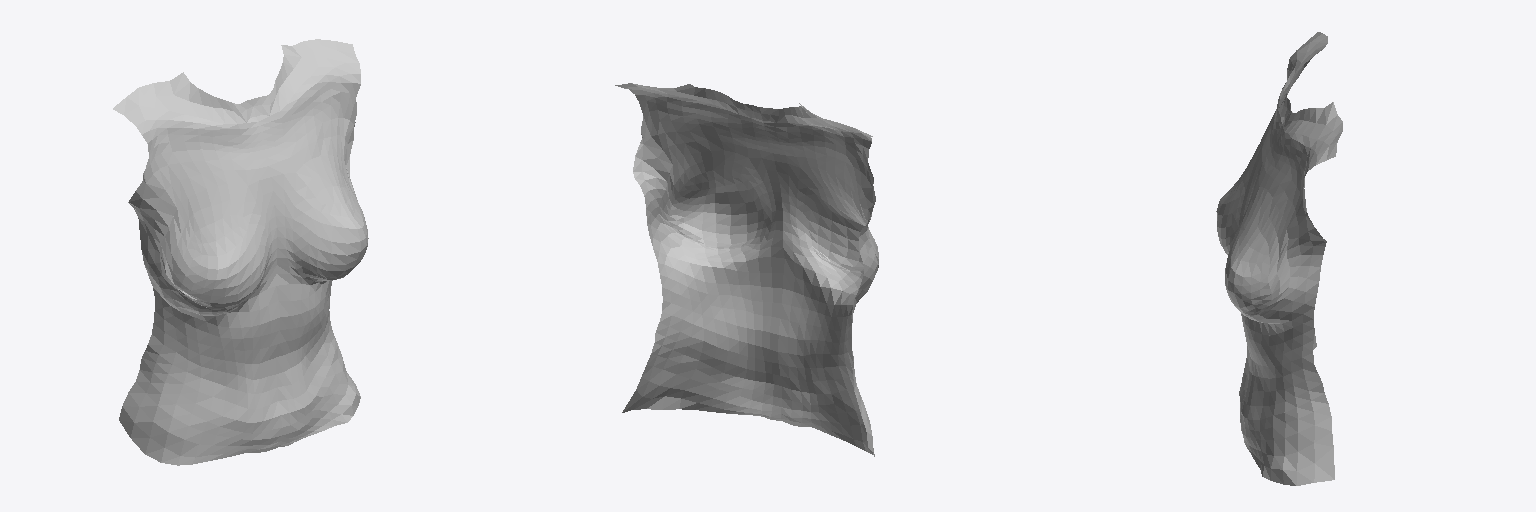
Rendered from Model1_deformed_alpha_1_Template1030.obj.
The picture shows the model from 3 angles: view 1: azimuth 30°, elevation 25°; view 2: azimuth 150°, elevation 25°; view 3: azimuth 270°, elevation 25°; orthographic projection.
Bounding box in the file's own units: 0.3171 × 0.4396 × 0.1398.